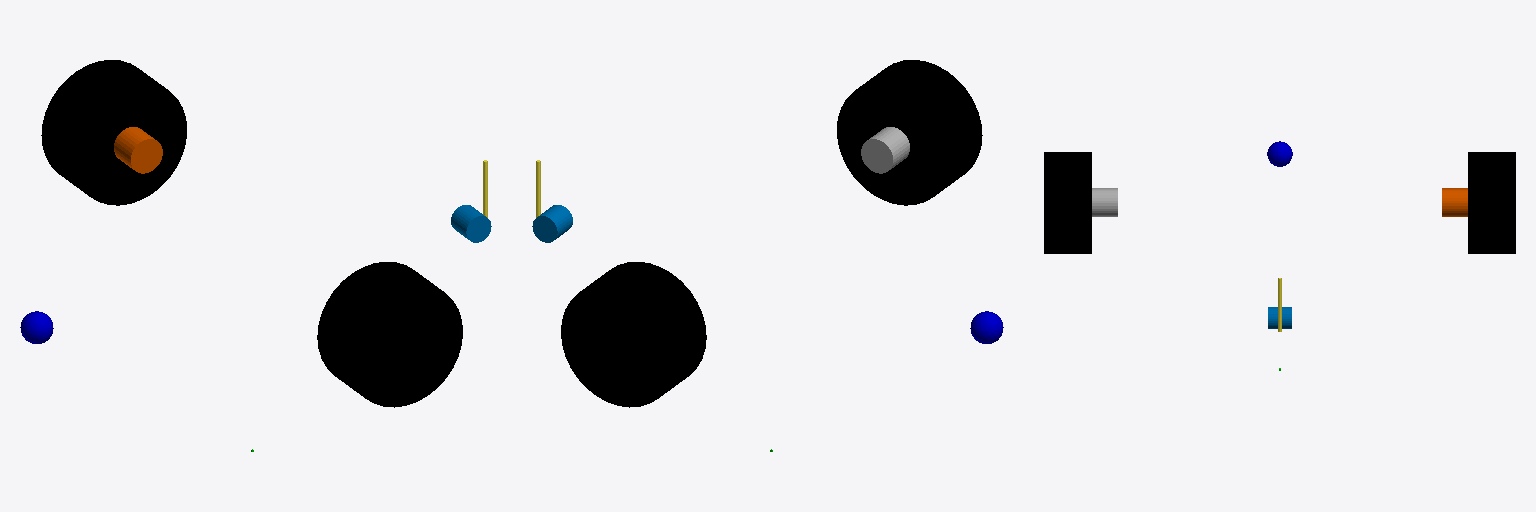
robot.urdf — create:
<?xml version="1.0" ?>
<!-- =================================================================================== -->
<!-- |    This document was autogenerated by xacro from create.urdf.xacro              | -->
<!-- |    EDITING THIS FILE BY HAND IS NOT RECOMMENDED                                 | -->
<!-- =================================================================================== -->
<robot name="create" xmlns:controller="http://playerstage.sourceforge.net/gazebo/xmlschema/#controller" xmlns:interface="http://playerstage.sourceforge.net/gazebo/xmlschema/#interface" xmlns:sensor="http://playerstage.sourceforge.net/gazebo/xmlschema/#sensor">
  <!-- Included URDF Files -->
  <material name="Black">
    <color rgba="0.0 0.0 0.0 1.0"/>
  </material>
  <material name="Blue">
    <color rgba="0.0 0.0 0.8 1.0"/>
  </material>
  <material name="Green">
    <color rgba="0.0 0.8 0.0 1.0"/>
  </material>
  <material name="Grey">
    <color rgba="0.7 0.7 0.7 1.0"/>
  </material>
  <material name="Grey2">
    <color rgba="0.9 0.9 0.9 1.0"/>
  </material>
  <material name="Red">
    <color rgba="0.8 0.0 0.0 1.0"/>
  </material>
  <material name="White">
    <color rgba="1.0 1.0 1.0 1.0"/>
  </material>
  <link name="base_footprint">
    <inertial>
      <mass value="0.0001"/>
      <origin xyz="0 0 0"/>
      <inertia ixx="0.0001" ixy="0.0" ixz="0.0" iyy="0.0001" iyz="0.0" izz="0.0001"/>
    </inertial>
    <visual>
      <origin rpy="0 0 0" xyz="0 0 0"/>
      <geometry>
        <box size="0.001 0.001 0.001"/>
      </geometry>
      <material name="Green"/>
    </visual>
    <collision>
      <origin rpy="0 0 0" xyz="0 0 0.1285"/>
      <geometry>
        <box size="0.001 0.001 0.001"/>
      </geometry>
    </collision>
  </link>
  <joint name="base_footprint_joint" type="fixed">
    <!-- NB: While you would think this would make it go up, it is oddly reversed.
                 This moves the joint to 0,0,0 where we want it for rviz, etc. -->
    <origin rpy="0 0 0" xyz="0 0 0.1285"/>
    <parent link="base_footprint"/>
    <child link="base_link"/>
  </joint>
  <link name="base_link">
    <inertial>
      <mass value="12"/>
      <origin xyz="-0.1085 0 -0.0775"/>
      <inertia ixx="1.0" ixy="0.0" ixz="0.0" iyy="1.0" iyz="0.0" izz="1.0"/>
    </inertial>
    <visual>
      <origin rpy="0 0 0" xyz="0.0 0.0 0.0"/>
      <geometry>
        <mesh filename="package://irobot_create_description/meshes/create_body.dae"/>
      </geometry>
      <material name="Blue"/>
    </visual>
    <collision>
      <origin rpy="0 0 0" xyz="0.0 0.0 0.0"/>
      <geometry>
        <mesh filename="package://irobot_create_description/meshes/create_body.stl"/>
      </geometry>
    </collision>
  </link>
  <joint name="rear_wheel_joint" type="continuous">
    <origin rpy="0 0 0" xyz="-0.12 0 -0.035"/>
    <parent link="base_link"/>
    <child link="rear_wheel_link"/>
    <axis xyz="0 1 0"/>
    <anchor xyz="0 0 0"/>
    <limit effort="10" k_velocity="0" velocity="100"/>
    <joint_properties damping="0.0" friction="0.0"/>
  </joint>
  <link name="rear_wheel_link">
    <inertial>
      <mass value="0.001"/>
      <origin xyz="0 0 0"/>
      <inertia ixx="0.012411765597" ixy="-0.000711733678" ixz="0.00050272983" iyy="0.015218160428" iyz="-0.000004273467" izz="0.011763977943"/>
    </inertial>
    <visual>
      <origin rpy="1.570795 0 0" xyz="0 0 0"/>
      <geometry>
        <sphere radius="0.008"/>
      </geometry>
      <material name="Blue"/>
    </visual>
    <collision>
      <origin rpy="1.570795 0 0" xyz="0 0 0"/>
      <geometry>
        <sphere radius="0.008"/>
      </geometry>
    </collision>
  </link>
  <gazebo reference="rear_wheel_link">
    <elem key="mu1" value="10.0"/>
    <elem key="mu2" value="10.0"/>
    <elem key="kp" value="1000000.0"/>
    <elem key="kd" value="1.0"/>
  </gazebo>
  <joint name="base_caster_support_joint" type="continuous">
    <origin rpy="0 0 0" xyz="0.13 0 -0.023"/>
    <parent link="base_link"/>
    <child link="base_caster_support_link"/>
    <axis xyz="0 0 1"/>
    <anchor xyz="0.01 0 0"/>
    <limit effort="100" k_velocity="0" velocity="100"/>
    <joint_properties damping="0.0" friction="0.0"/>
  </joint>
  <transmission name="rear_wheel_trans" type="pr2_mechanism_model/SimpleTransmission">
    <actuator name="rear_wheel_motor"/>
    <joint name="rear_wheel_joint"/>
    <mechanicalReduction>1.0</mechanicalReduction>
  </transmission>
  <link name="base_caster_support_link">
    <inertial>
      <mass value="25.0"/>
      <origin xyz="0 0 0"/>
      <inertia ixx="0.01" ixy="0.0" ixz="0.0" iyy="0.01" iyz="0.0" izz="0.01"/>
    </inertial>
    <visual>
      <origin rpy="0 0 0" xyz="0.0 0.0 0.0"/>
      <geometry>
        <cylinder length="0.037" radius="0.001"/>
      </geometry>
    </visual>
    <collision>
      <origin rpy="0 0 0" xyz="0.0 0.0 0.0"/>
      <geometry>
        <cylinder length="0.037" radius="0.001"/>
      </geometry>
    </collision>
  </link>
  <joint name="caster_wheel_joint" type="continuous">
    <origin rpy="0 0 0" xyz="-0.008 0 -0.0130"/>
    <parent link="base_caster_support_link"/>
    <child link="caster_wheel_link"/>
    <axis xyz="0 1 0"/>
    <anchor xyz="0 0 0"/>
    <limit effort="100" k_velocity="0" velocity="100"/>
    <joint_properties damping="0.0" friction="0.0"/>
  </joint>
  <transmission name="caster_wheel_trans" type="pr2_mechanism_model/SimpleTransmission">
    <actuator name="caster_wheel_motor"/>
    <joint name="caster_wheel_joint"/>
    <mechanicalReduction>1.0</mechanicalReduction>
  </transmission>
  <link name="caster_wheel_link">
    <inertial>
      <mass value="1.0"/>
      <origin rpy="0 0 0" xyz="0 0 0"/>
      <inertia ixx="0.012411765597" ixy="-0.000711733678" ixz="0.00050272983" iyy="0.015218160428" iyz="-0.000004273467" izz="0.011763977943"/>
    </inertial>
    <visual>
      <origin rpy="1.570795 0 0" xyz="0 0 0"/>
      <geometry>
        <cylinder length="0.015" radius="0.007"/>
      </geometry>
    </visual>
    <collision>
      <origin rpy="1.570795 0 0" xyz="0 0 0"/>
      <geometry>
        <cylinder length="0.015" radius="0.007"/>
      </geometry>
    </collision>
  </link>
  <gazebo reference="caster_wheel_link">
    <elem key="mu1" value="50.0"/>
    <elem key="mu2" value="50.0"/>
    <elem key="kp" value="1000000.0"/>
    <elem key="kd" value="1.0"/>
  </gazebo>
  <joint name="base_link_left_motor_joint" type="fixed">
    <origin rpy="0 0 0" xyz="0 0.105 -0.0128"/>
    <parent link="base_link"/>
    <child link="base_link_left_motor_link"/>
  </joint>
  <link name="base_link_left_motor_link">
    <inertial>
      <mass value="0.1"/>
      <origin xyz=" 0 0.009375 0 "/>
      <inertia ixx="0.012411765597" ixy="0.0" ixz="0.0" iyy="0.015218160428" iyz="0.0" izz="0.011763977943"/>
    </inertial>
    <visual>
      <origin rpy="1.570795 0 0" xyz="0 0.009375 0"/>
      <geometry>
        <cylinder length="0.025" radius="0.009"/>
      </geometry>
    </visual>
    <collision>
      <origin rpy="1.570795 0 0" xyz="0 0.009375 0"/>
      <geometry>
        <cylinder length="0.025" radius="0.009"/>
      </geometry>
    </collision>
  </link>
  <joint name="base_link_left_wheel_joint" type="continuous">
    <origin rpy="0 0 0" xyz="0 0.01875 0"/>
    <axis xyz="0 1 0"/>
    <anchor xyz="0 0 0"/>
    <limit effort="100" velocity="100"/>
    <joint_properties damping="0.0" friction="0.0"/>
    <parent link="base_link_left_motor_link"/>
    <child link="base_link_left_wheel_link"/>
  </joint>
  <link name="base_link_left_wheel_link">
    <inertial>
      <mass value="5"/>
      <origin xyz=" 0 0 0 "/>
      <inertia ixx="0.012411765597" ixy="0.0" ixz="0.0" iyy="0.015218160428" iyz="0.0" izz="0.011763977943"/>
    </inertial>
    <visual>
      <origin rpy="1.570795 0 0" xyz="0 0.009375 0"/>
      <geometry>
        <cylinder length="0.03" radius="0.032"/>
      </geometry>
      <material name="Black"/>
    </visual>
    <collision>
      <origin rpy="1.570795 0 0" xyz="0 0.009375 0"/>
      <geometry>
        <cylinder length="0.03" radius="0.032"/>
      </geometry>
    </collision>
  </link>
  <gazebo reference="base_link_left_wheel_link">
    <elem key="mu1" value="50.0"/>
    <elem key="mu2" value="50.0"/>
    <elem key="kp" value="100000000.0"/>
    <elem key="kd" value="1.0"/>
    <material>Create/Grey</material>
  </gazebo>
  <gazebo reference="base_link_left_motor_link">
    <material>Create/White</material>
  </gazebo>
  <transmission name="base_link_left_wheel_trans" type="pr2_mechanism_model/SimpleTransmission">
    <actuator name="base_link_left_wheel_motor"/>
    <joint name="base_link_left_wheel_joint"/>
    <mechanicalReduction>1.0</mechanicalReduction>
  </transmission>
  <joint name="base_link_right_motor_joint" type="fixed">
    <origin rpy="0 0 0" xyz="0 -0.105 -0.0128"/>
    <parent link="base_link"/>
    <child link="base_link_right_motor_link"/>
  </joint>
  <link name="base_link_right_motor_link">
    <inertial>
      <mass value="0.1"/>
      <origin xyz=" 0 -0.009375 0 "/>
      <inertia ixx="0.012411765597" ixy="0.0" ixz="0.0" iyy="0.015218160428" iyz="0.0" izz="0.011763977943"/>
    </inertial>
    <visual>
      <origin rpy="1.570795 0 0" xyz="0 -0.009375 0"/>
      <geometry>
        <cylinder length="0.025" radius="0.009"/>
      </geometry>
    </visual>
    <collision>
      <origin rpy="1.570795 0 0" xyz="0 -0.009375 0"/>
      <geometry>
        <cylinder length="0.025" radius="0.009"/>
      </geometry>
    </collision>
  </link>
  <joint name="base_link_right_wheel_joint" type="continuous">
    <origin rpy="0 0 0" xyz="0 -0.01875 0"/>
    <axis xyz="0 1 0"/>
    <anchor xyz="0 0 0"/>
    <limit effort="100" velocity="100"/>
    <joint_properties damping="0.0" friction="0.0"/>
    <parent link="base_link_right_motor_link"/>
    <child link="base_link_right_wheel_link"/>
  </joint>
  <link name="base_link_right_wheel_link">
    <inertial>
      <mass value="5"/>
      <origin xyz=" 0 0 0 "/>
      <inertia ixx="0.012411765597" ixy="0.0" ixz="0.0" iyy="0.015218160428" iyz="0.0" izz="0.011763977943"/>
    </inertial>
    <visual>
      <origin rpy="1.570795 0 0" xyz="0 -0.009375 0"/>
      <geometry>
        <cylinder length="0.03" radius="0.032"/>
      </geometry>
      <material name="Black"/>
    </visual>
    <collision>
      <origin rpy="1.570795 0 0" xyz="0 -0.009375 0"/>
      <geometry>
        <cylinder length="0.03" radius="0.032"/>
      </geometry>
    </collision>
  </link>
  <gazebo reference="base_link_right_wheel_link">
    <elem key="mu1" value="50.0"/>
    <elem key="mu2" value="50.0"/>
    <elem key="kp" value="100000000.0"/>
    <elem key="kd" value="1.0"/>
    <material>Create/Grey</material>
  </gazebo>
  <gazebo reference="base_link_right_motor_link">
    <material>Create/White</material>
  </gazebo>
  <transmission name="base_link_right_wheel_trans" type="pr2_mechanism_model/SimpleTransmission">
    <actuator name="base_link_right_wheel_motor"/>
    <joint name="base_link_right_wheel_joint"/>
    <mechanicalReduction>1.0</mechanicalReduction>
  </transmission>
  <gazebo>
    <controller:diffdrive_plugin name="differential_drive_controller" plugin="libdiffdrive_plugin.so">
      <alwaysOn>true</alwaysOn>
      <update>100</update>
      <updateRate>100.0</updateRate>
      <leftJoint>base_link_right_wheel_joint</leftJoint>
      <rightJoint>base_link_left_wheel_joint</rightJoint>
      <wheelSeparation>0.34</wheelSeparation>
      <wheelDiameter>0.0692</wheelDiameter>
      <torque>50</torque>
      <interface:position name="position_iface_0"/>
      <robotNamespace>/</robotNamespace>
      <topicName>cmd_vel</topicName>
    </controller:diffdrive_plugin>
    <controller:gazebo_ros_p3d name="p3d_base_controller" plugin="libgazebo_ros_p3d.so">
      <alwaysOn>true</alwaysOn>
      <updateRate>100.0</updateRate>
      <bodyName>base_link</bodyName>
      <topicName>base_pose_ground_truth</topicName>
      <gaussianNoise>0.01</gaussianNoise>
      <frameName>map</frameName>
      <xyzOffsets>0 0 0</xyzOffsets>
      <rpyOffsets>0 0 0</rpyOffsets>
      <interface:position name="p3d_base_position"/>
    </controller:gazebo_ros_p3d>
    <canonicalBody>base_footprint</canonicalBody>
    <!-- this publishes empty joint_states due to no transmission, but
             triggering robot_state_publisher to publish tf between fixed joints in create,
             (e.g. base_laser_link for the base_scan frame) -->
    <controller:gazebo_ros_controller_manager name="gazebo_ros_controller_manager" plugin="libgazebo_ros_controller_manager.so">
      <alwaysOn>true</alwaysOn>
      <updateRate>100.0</updateRate>
      <interface:audio name="gazebo_ros_controller_manager_dummy_iface"/>
    </controller:gazebo_ros_controller_manager>
  </gazebo>
  <gazebo reference="base_link">
    <material>Create/GreyTextured</material>
  </gazebo>
  <gazebo reference="rear_wheel_link">
    <material>Create/Black</material>
  </gazebo>
  <gazebo reference="caster_wheel_link">
    <material>Create/Black</material>
  </gazebo>
  <gazebo reference="base_caster_box_link">
    <material>Create/Black</material>
  </gazebo>
  <gazebo reference="base_caster_support_link">
    <material>Create/Black</material>
  </gazebo>
</robot>

--- Render facts (derived) ---
3 views of the same robot in one strip: view 1: azimuth 30°, elevation 25°; view 2: azimuth 150°, elevation 25°; view 3: azimuth 270°, elevation 25° (orthographic).
Model create with 9 links and 8 joints (5 continuous, 3 fixed), rooted at base_footprint, posed every joint at zero.
Links seen in each view (by area): view 1: base_link_right_wheel_link, base_link_left_wheel_link, base_link_left_motor_link, caster_wheel_link, rear_wheel_link; view 2: base_link_left_wheel_link, base_link_right_wheel_link, base_link_right_motor_link, caster_wheel_link, rear_wheel_link; view 3: base_link_left_wheel_link, base_link_right_wheel_link, base_link_left_motor_link, base_link_right_motor_link.
Link boxes in pixels (x1,y1,x2,y2): base_link_right_wheel_link: [317, 262, 462, 407]; base_link_left_wheel_link: [41, 60, 186, 205]; base_link_left_motor_link: [114, 127, 162, 173]; caster_wheel_link: [451, 205, 491, 242]; rear_wheel_link: [20, 311, 53, 343]; base_link_left_wheel_link: [561, 262, 706, 407]; base_link_right_wheel_link: [837, 60, 982, 205]; base_link_right_motor_link: [861, 127, 909, 173]; caster_wheel_link: [532, 205, 572, 242]; rear_wheel_link: [970, 311, 1003, 343]; base_link_left_wheel_link: [1468, 152, 1515, 253]; base_link_right_wheel_link: [1044, 152, 1091, 253]; base_link_left_motor_link: [1442, 188, 1467, 216]; base_link_right_motor_link: [1092, 188, 1117, 216].
Bounding box of the posed robot: 0.259 × 0.2963 × 0.1482 m (x, y, z).
0 mesh visuals loaded from 1 distinct referenced files (none loaded); not drawn: 1 (reference not matched to a file when rendering).
